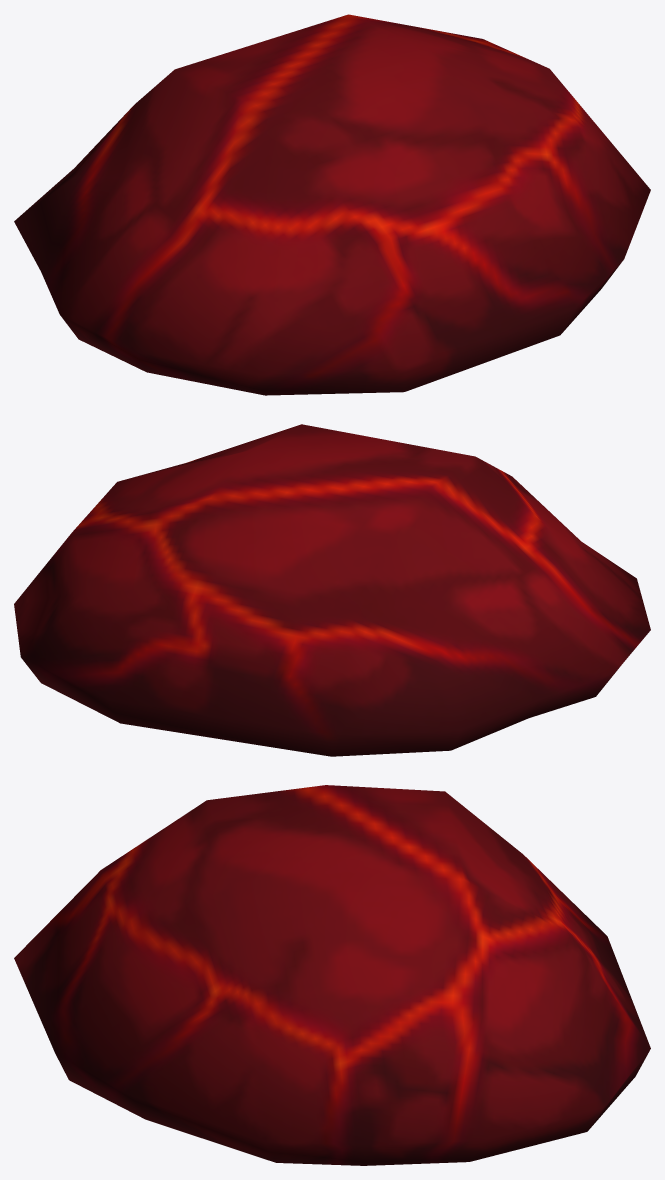
The model's file is Lava_Rock_02c.FBX.
3 renders of one model, top to bottom at view 1: azimuth 30°, elevation 25°; view 2: azimuth 150°, elevation 25°; view 3: azimuth 270°, elevation 25°, orthographic. The views are drawn at different scales.
Parts seen in each view (by area): view 1: Lava_Rock_02c; view 2: Lava_Rock_02c; view 3: Lava_Rock_02c.
Boxes of the visible parts, x1,y1,x2,y2 form: Lava_Rock_02c: (14, 14, 650, 395); Lava_Rock_02c: (14, 424, 650, 756); Lava_Rock_02c: (14, 785, 650, 1165).
Size of the model in its own units: 43.21 by 14.02 by 40.2.
